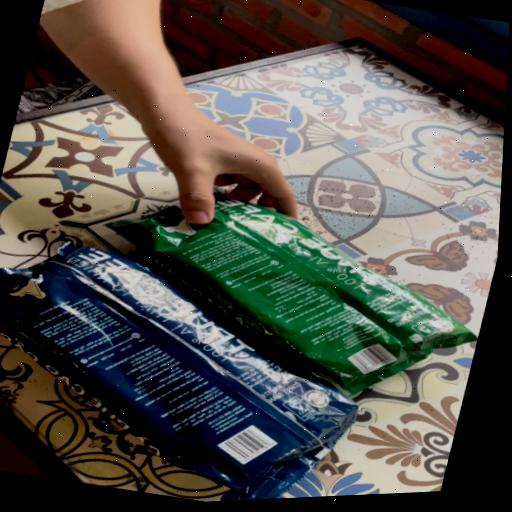cafe_hat: (0, 243, 358, 500)
cafe_xay: (108, 196, 477, 394)
